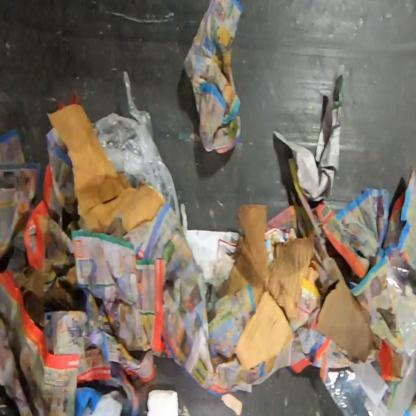cardboard: (216, 202, 322, 371), (45, 104, 168, 241), (315, 275, 382, 364)
soft_plastic: (92, 70, 182, 224), (385, 247, 415, 362), (324, 365, 376, 416), (209, 236, 237, 304)
